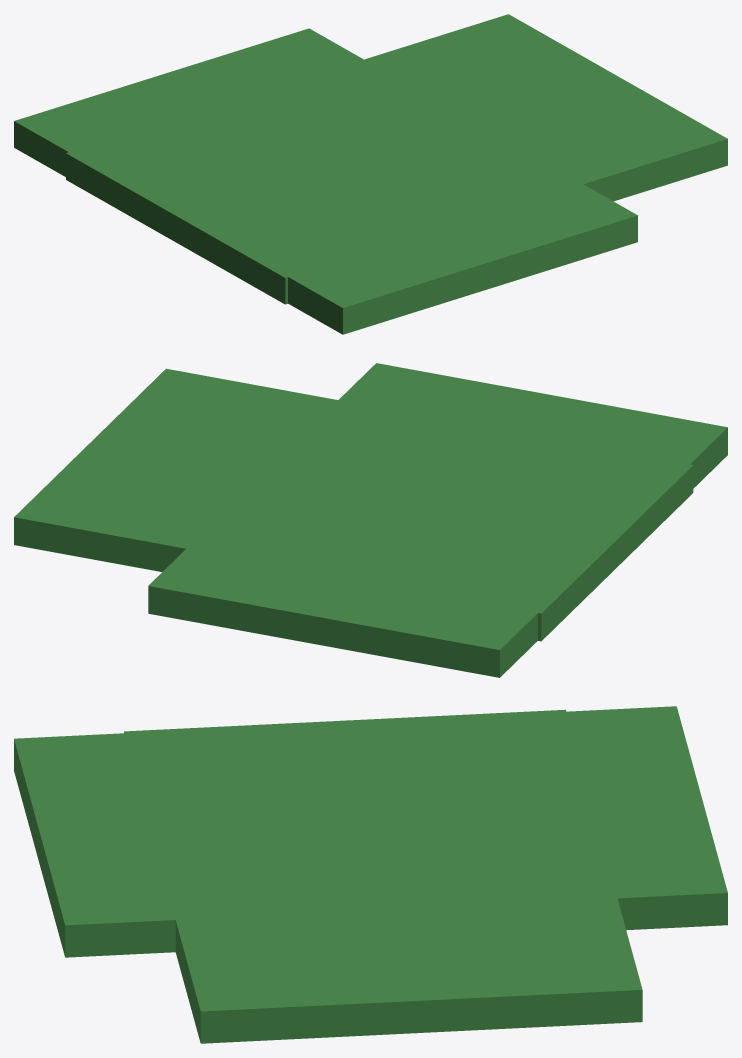
The model's file is C07_lily_pad.obj.
The picture shows the model from 3 angles, top to bottom: view 1: azimuth 30°, elevation 25°; view 2: azimuth 150°, elevation 25°; view 3: azimuth 270°, elevation 25°; orthographic projection. The views are drawn at different scales.
Parts seen in each view (by area): view 1: C07_lily_pad; view 2: C07_lily_pad; view 3: C07_lily_pad.
Part boxes in pixels (x1=…): C07_lily_pad: x1=14, y1=14, x2=727, y2=334; C07_lily_pad: x1=14, y1=363, x2=727, y2=677; C07_lily_pad: x1=14, y1=706, x2=727, y2=1043.
Size of the model in its own units: 0.812 by 0.04 by 0.8026.
